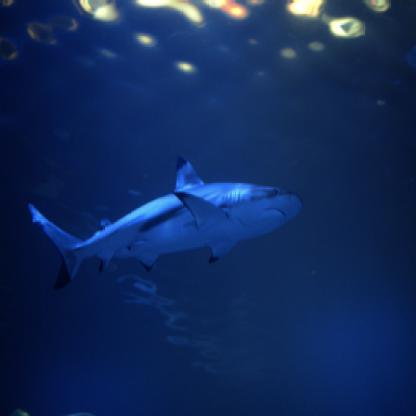shark: (27, 154, 308, 295)
